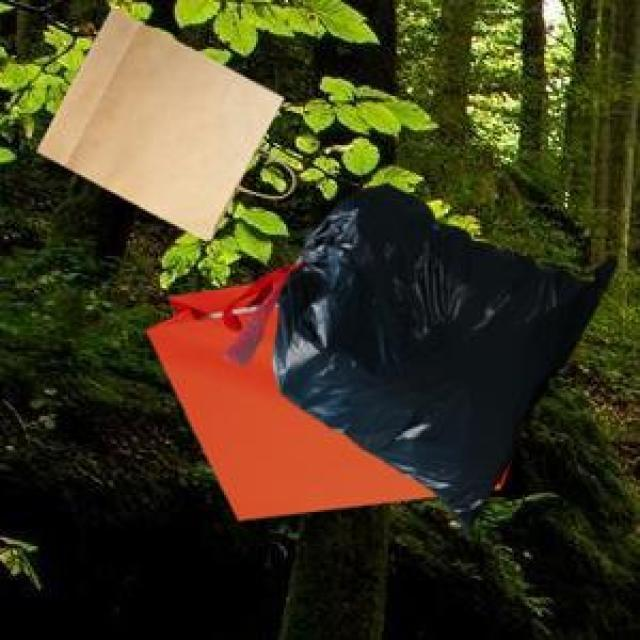miscellaneous trash: (220, 179, 612, 529)
paper: (143, 260, 504, 516), (34, 4, 280, 237)
